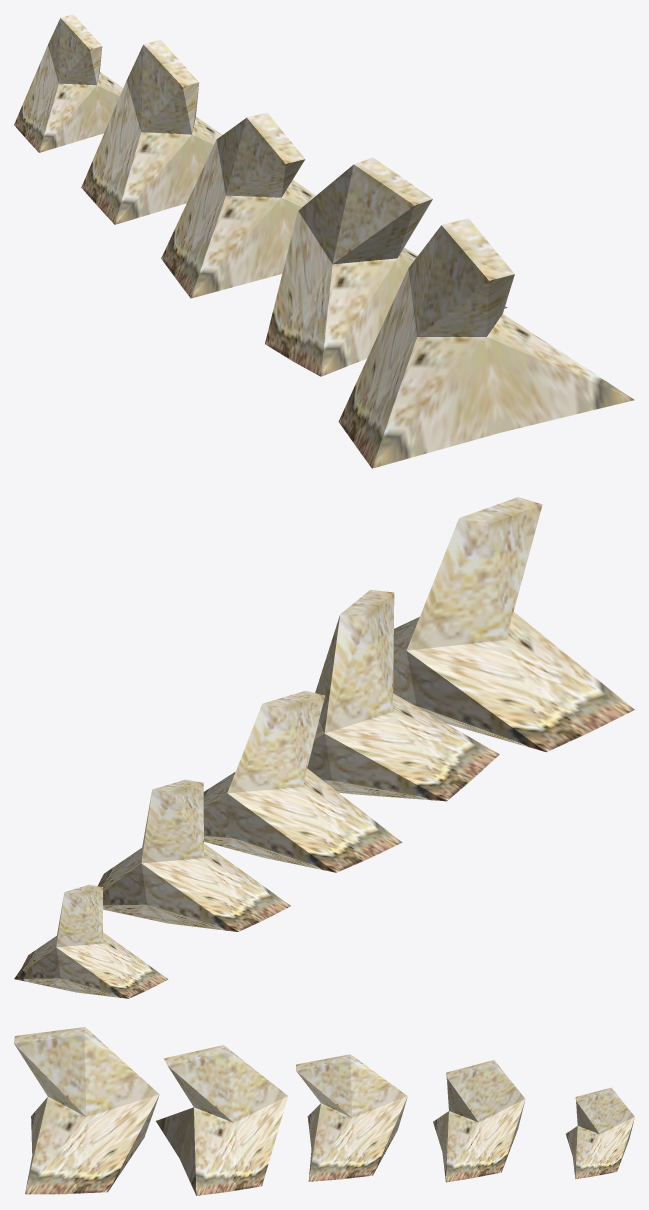
Rendered from poi_tato_skel_grtr_krayt_spine_s03_l0.fbx.
3 renders of one model, top to bottom at view 1: azimuth 30°, elevation 25°; view 2: azimuth 150°, elevation 25°; view 3: azimuth 270°, elevation 25°, orthographic. The views are drawn at different scales.
Visible parts, largest first — view 1: mesh_node; view 2: mesh_node; view 3: mesh_node.
Boxes of the visible parts, <box> form: mesh_node: <box>14,14,634,468</box>; mesh_node: <box>14,497,634,998</box>; mesh_node: <box>14,1027,634,1195</box>.
Bounding box in the file's own units: 1.51 × 1.12 × 4.68.
1 material, 1 textured.
